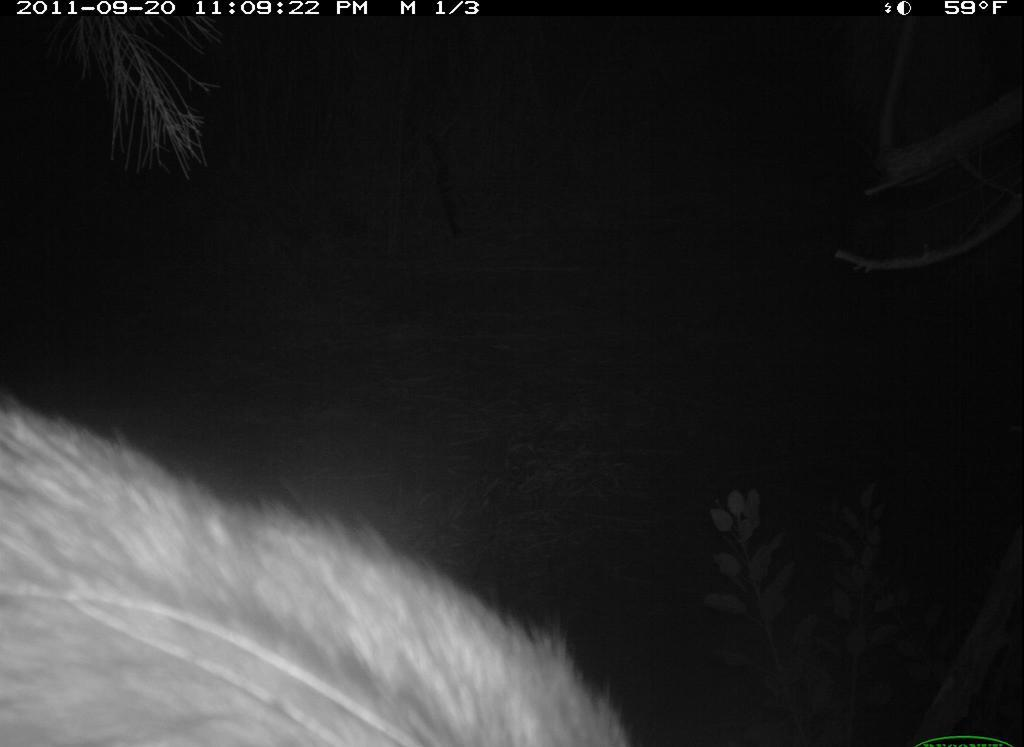raccoon: (1, 364, 658, 745)
